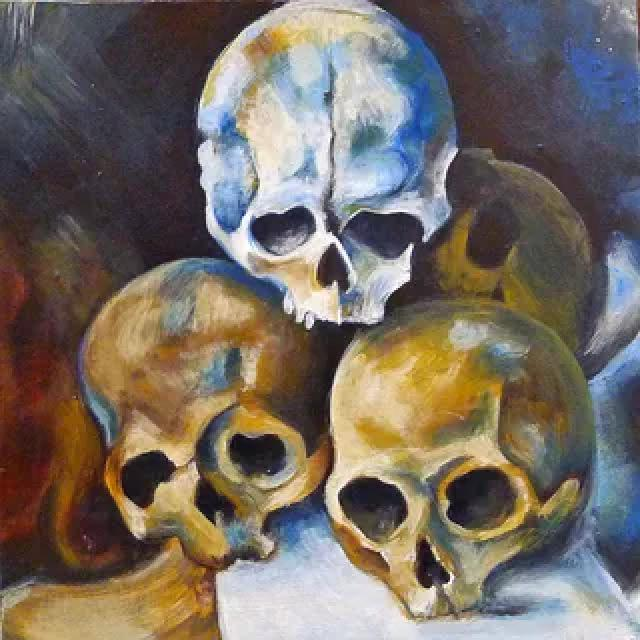skull: (189, 0, 470, 328)
